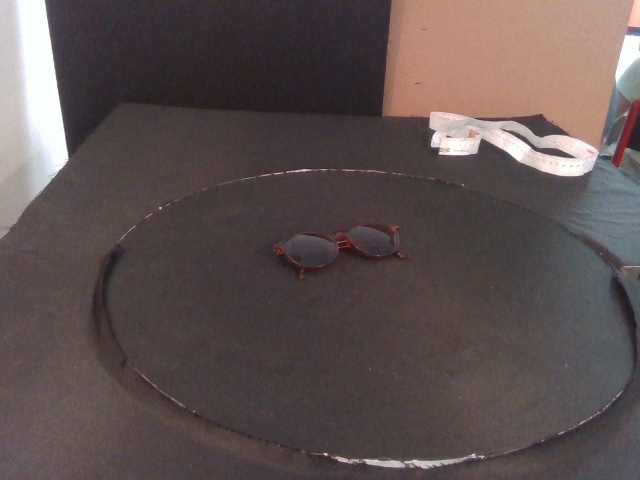glasses: (272, 221, 410, 281)
